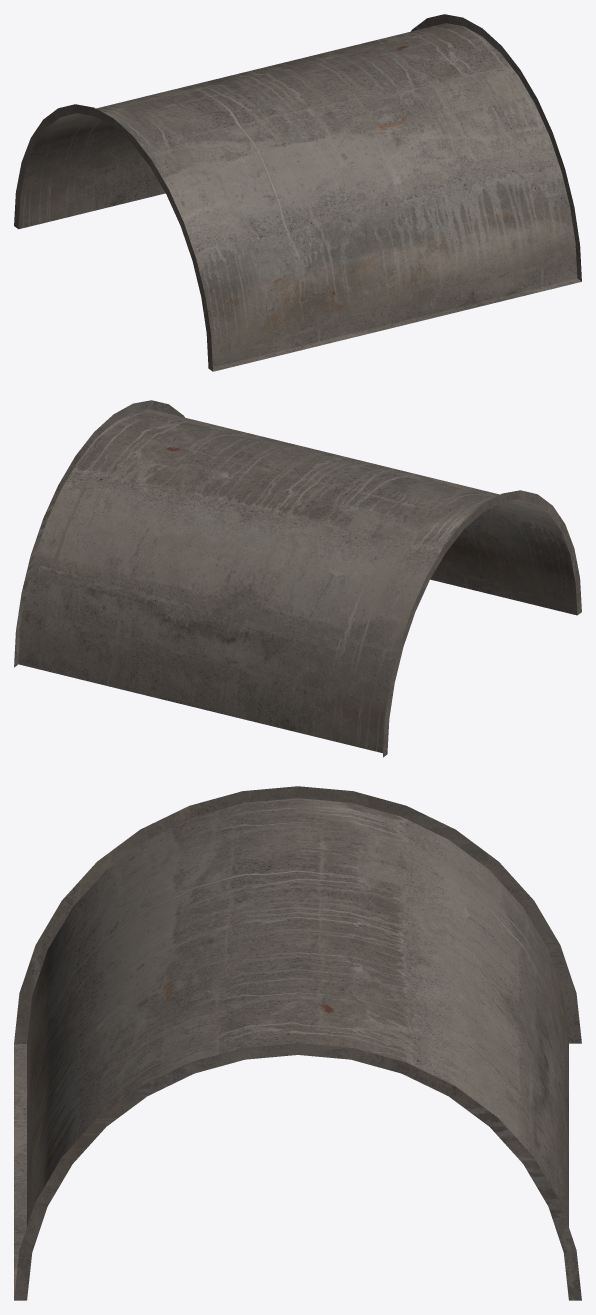
Rendered from Arch.fbx.
The picture shows the model from 3 angles, top to bottom: view 1: azimuth 30°, elevation 25°; view 2: azimuth 150°, elevation 25°; view 3: azimuth 270°, elevation 25°; orthographic projection. The views are drawn at different scales.
Parts seen in each view (by area): view 1: Circle; view 2: Circle; view 3: Circle.
Part boxes in pixels (box(x1,y1,x2,y2)): Circle: box(14, 14, 581, 371); Circle: box(14, 400, 581, 757); Circle: box(14, 786, 581, 1300).
Bounding box in the file's own units: 403 × 188 × 376.
Materials: 1 (1 with a texture image).
